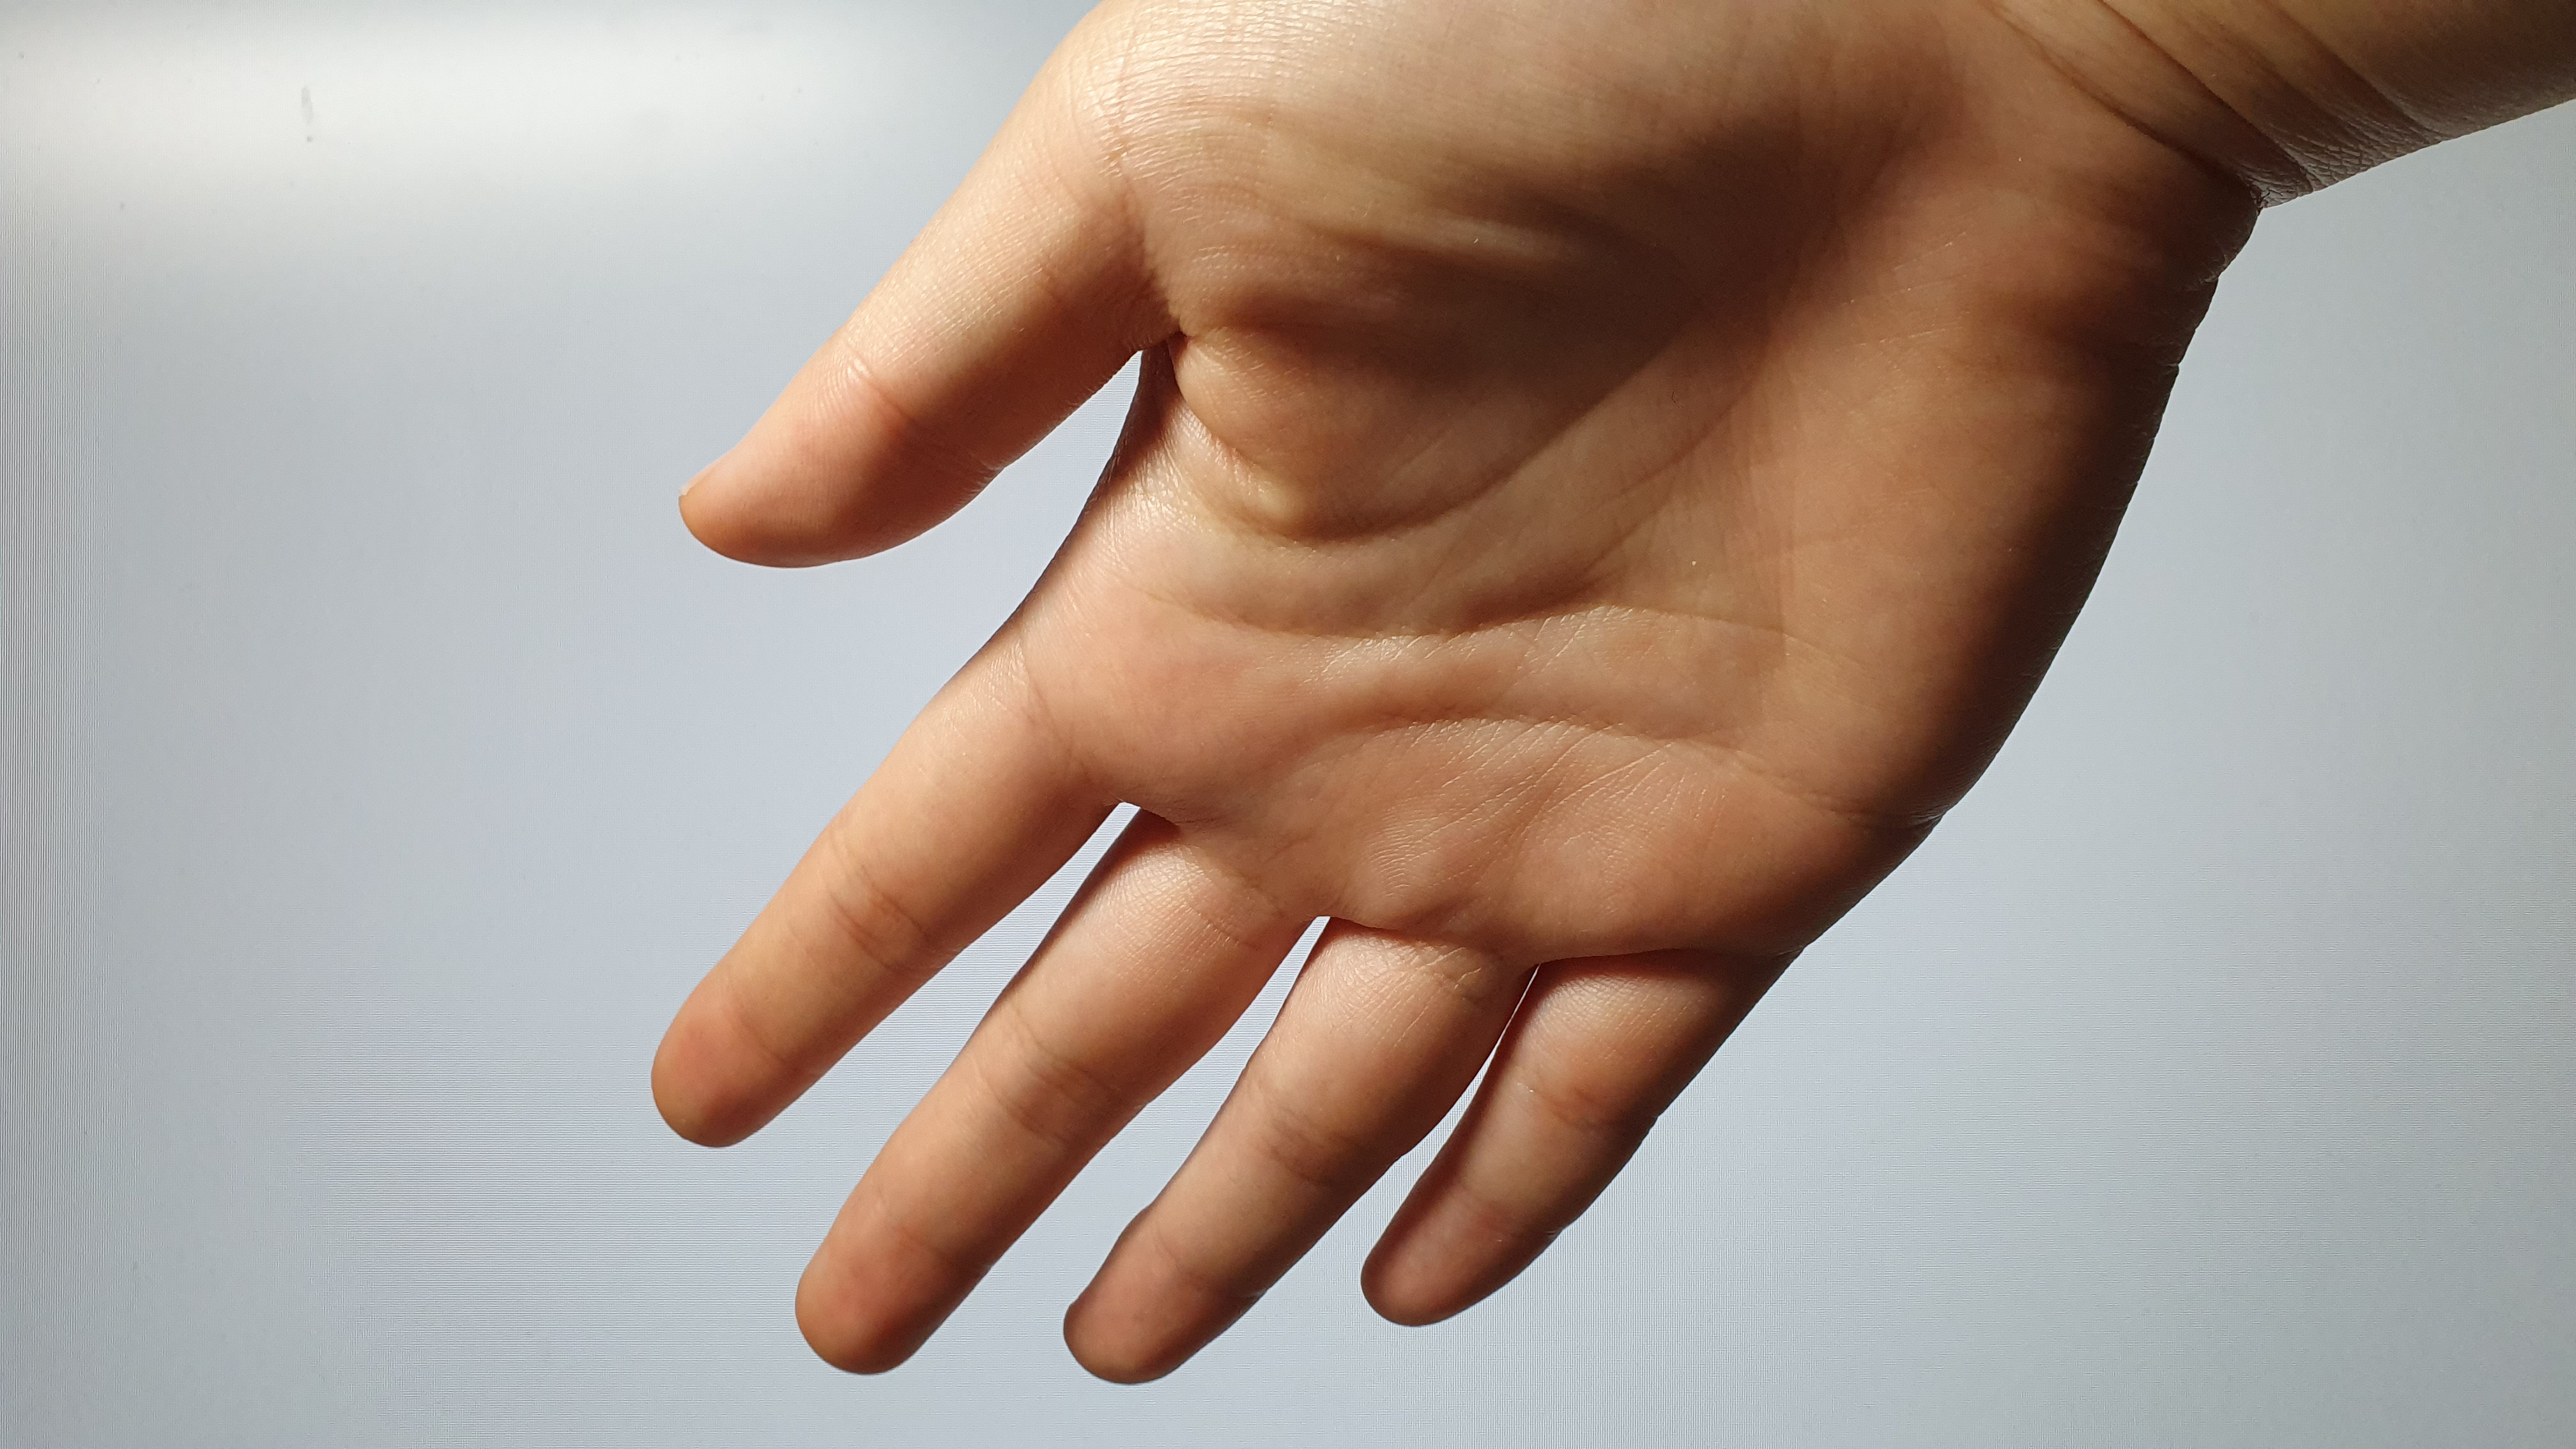hand: (644, 0, 2167, 1392)
index finger: (639, 653, 1125, 1155)
middle finger: (782, 830, 1329, 1387)
palm: (1019, 19, 2162, 952)
pinky: (1353, 941, 1780, 1341)
ring finger: (1056, 924, 1536, 1408)
thumb: (672, 108, 1184, 589)
